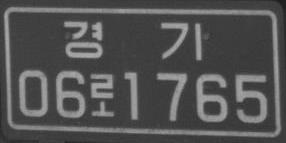0: (17, 69, 49, 118)
1: (120, 71, 146, 121)
5: (234, 73, 269, 124)
6: (194, 72, 228, 123), (54, 69, 86, 119)
7: (155, 71, 188, 121)
경기_D: (62, 19, 203, 62)
로: (89, 71, 115, 118)
